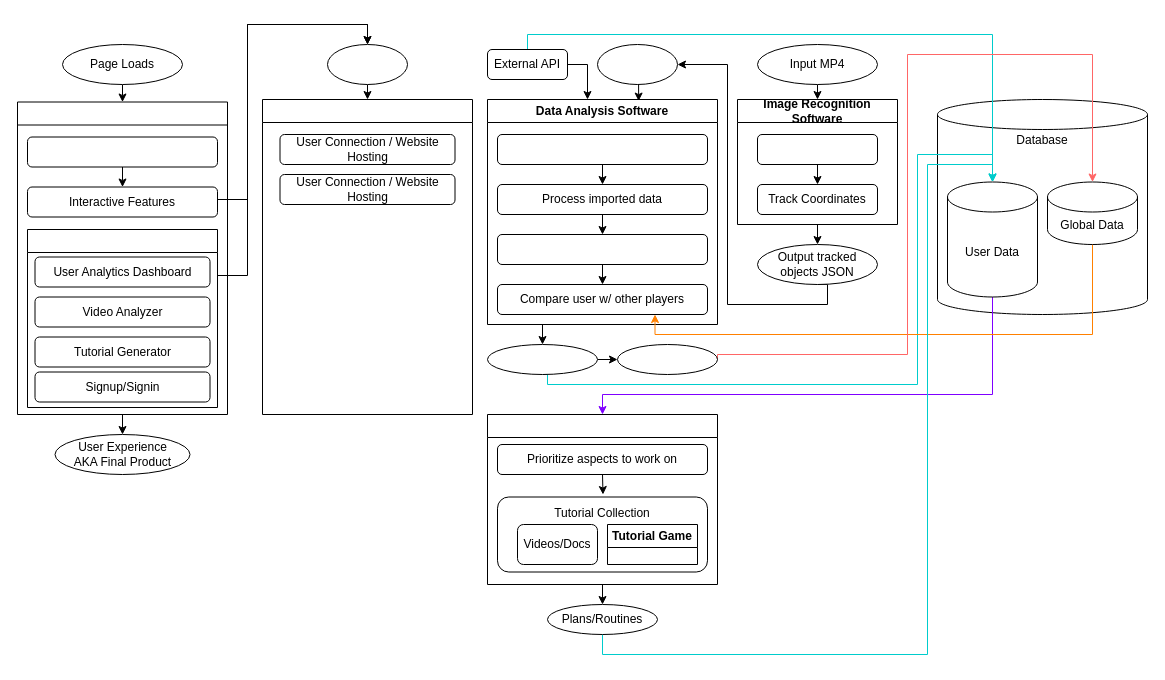
Some shapes in this 1165 by 680 pixel diagram are drawn without their labels. The shapes that lost their labels are listed below. From the top down, each one's box as (x1, y1, x2, y2) in pixels, then its label:
(326, 44, 408, 84): User Events
(596, 44, 678, 84): Recording Data
(26, 136, 218, 167): Website Design
(496, 134, 708, 164): Determine statistics to output
(756, 134, 878, 164): Locate significant objects in frame
(16, 101, 228, 414): Website Front End
(262, 98, 472, 414): Website Back End
(496, 234, 708, 264): Calculate statistics
(26, 228, 218, 408): Pages
(486, 344, 598, 374): User stats
(616, 344, 718, 374): Global stats
(486, 414, 718, 584): Tutorial System
